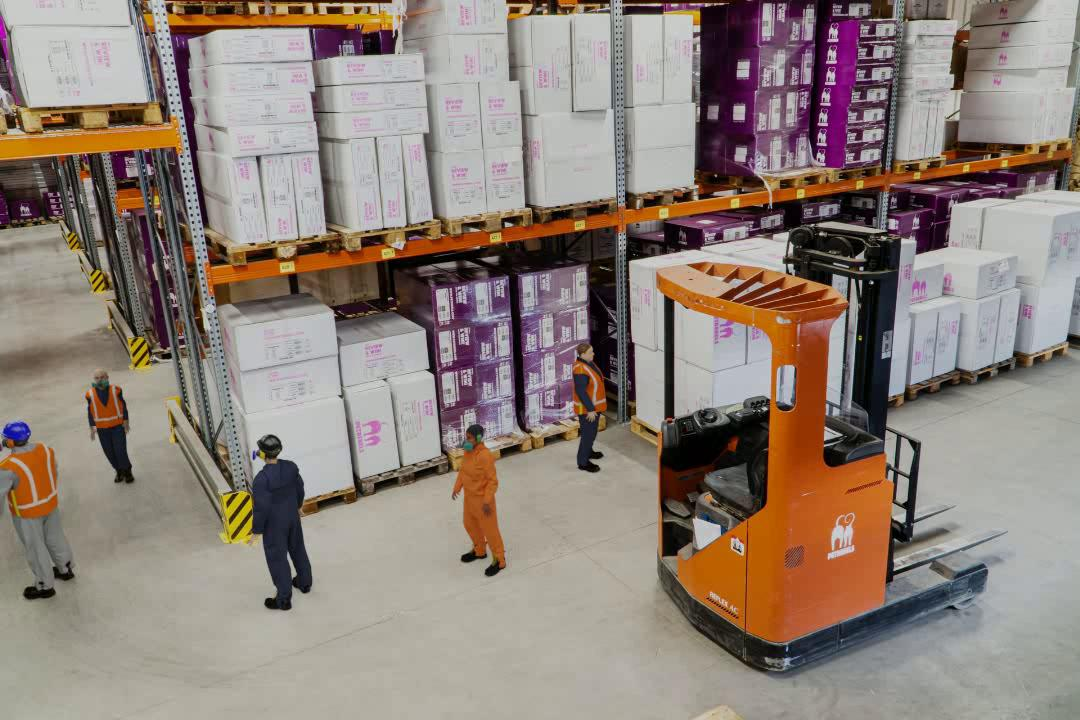Helmet: (85, 389, 131, 429), (6, 419, 33, 441), (256, 435, 285, 453)
Jacket: (5, 444, 69, 528), (572, 360, 610, 418)
Shoes: (481, 553, 510, 582), (24, 581, 59, 605), (50, 559, 81, 585), (574, 456, 604, 478), (259, 595, 294, 613), (289, 571, 313, 595), (457, 547, 490, 562), (582, 444, 605, 460), (123, 466, 138, 484), (113, 472, 124, 485)
